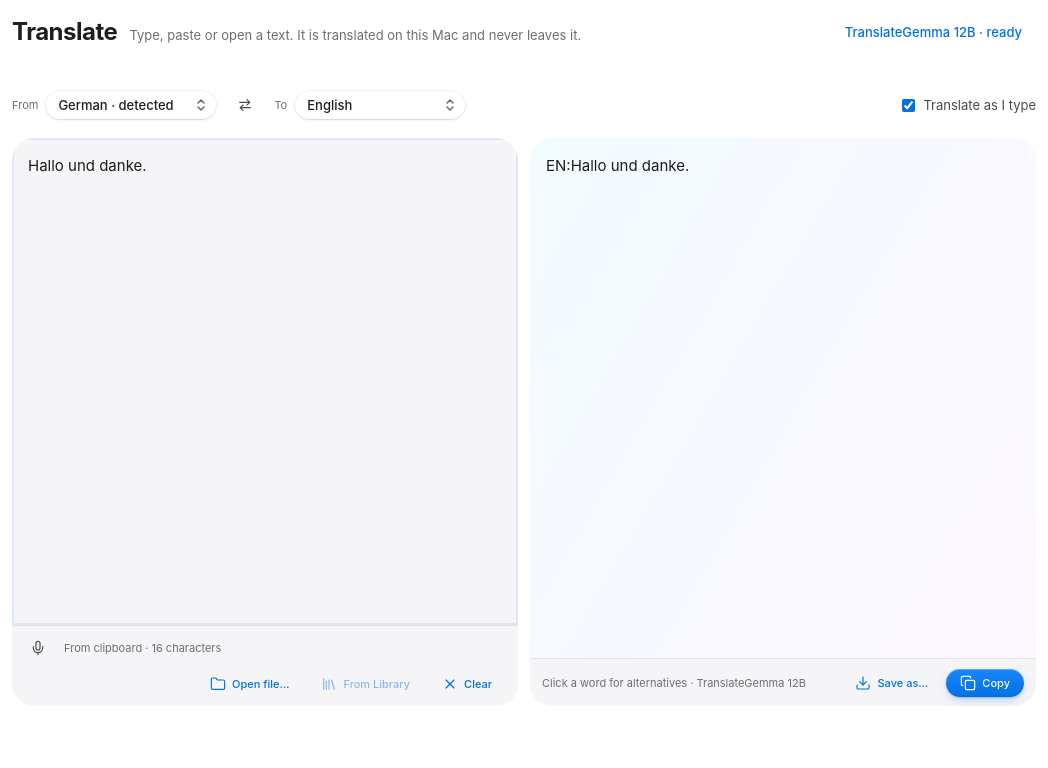
Test case: TranslateScreen › coming back from another app › fills an empty screen with what was just copied, and Clear empties it
The image size is (1048, 768).
Check: the text box named "Text to translate" holds "Hallo und danke.", box [12,138,518,625]
Check: the text "From clipboard ·" is shown, box [64,641,152,655]
What coordinates should you click on to do the following:
click the button "Clear"
I would click on:
 (467, 684)
Its box is [428,670,506,698].
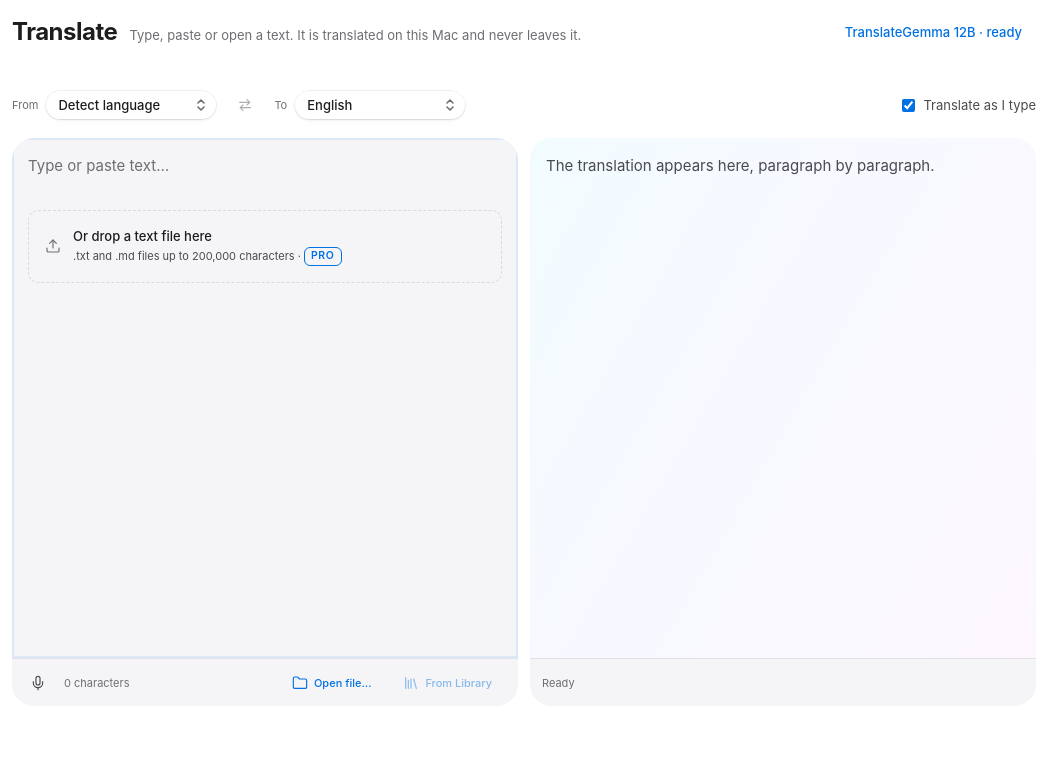
Check: the text box named "Text to translate" is empty, box [12,138,518,658]
Check: the text "From clipboard" is gone
